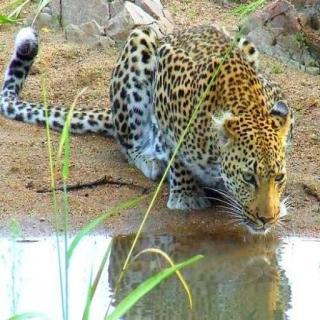Leopard: (63, 0, 320, 269)
